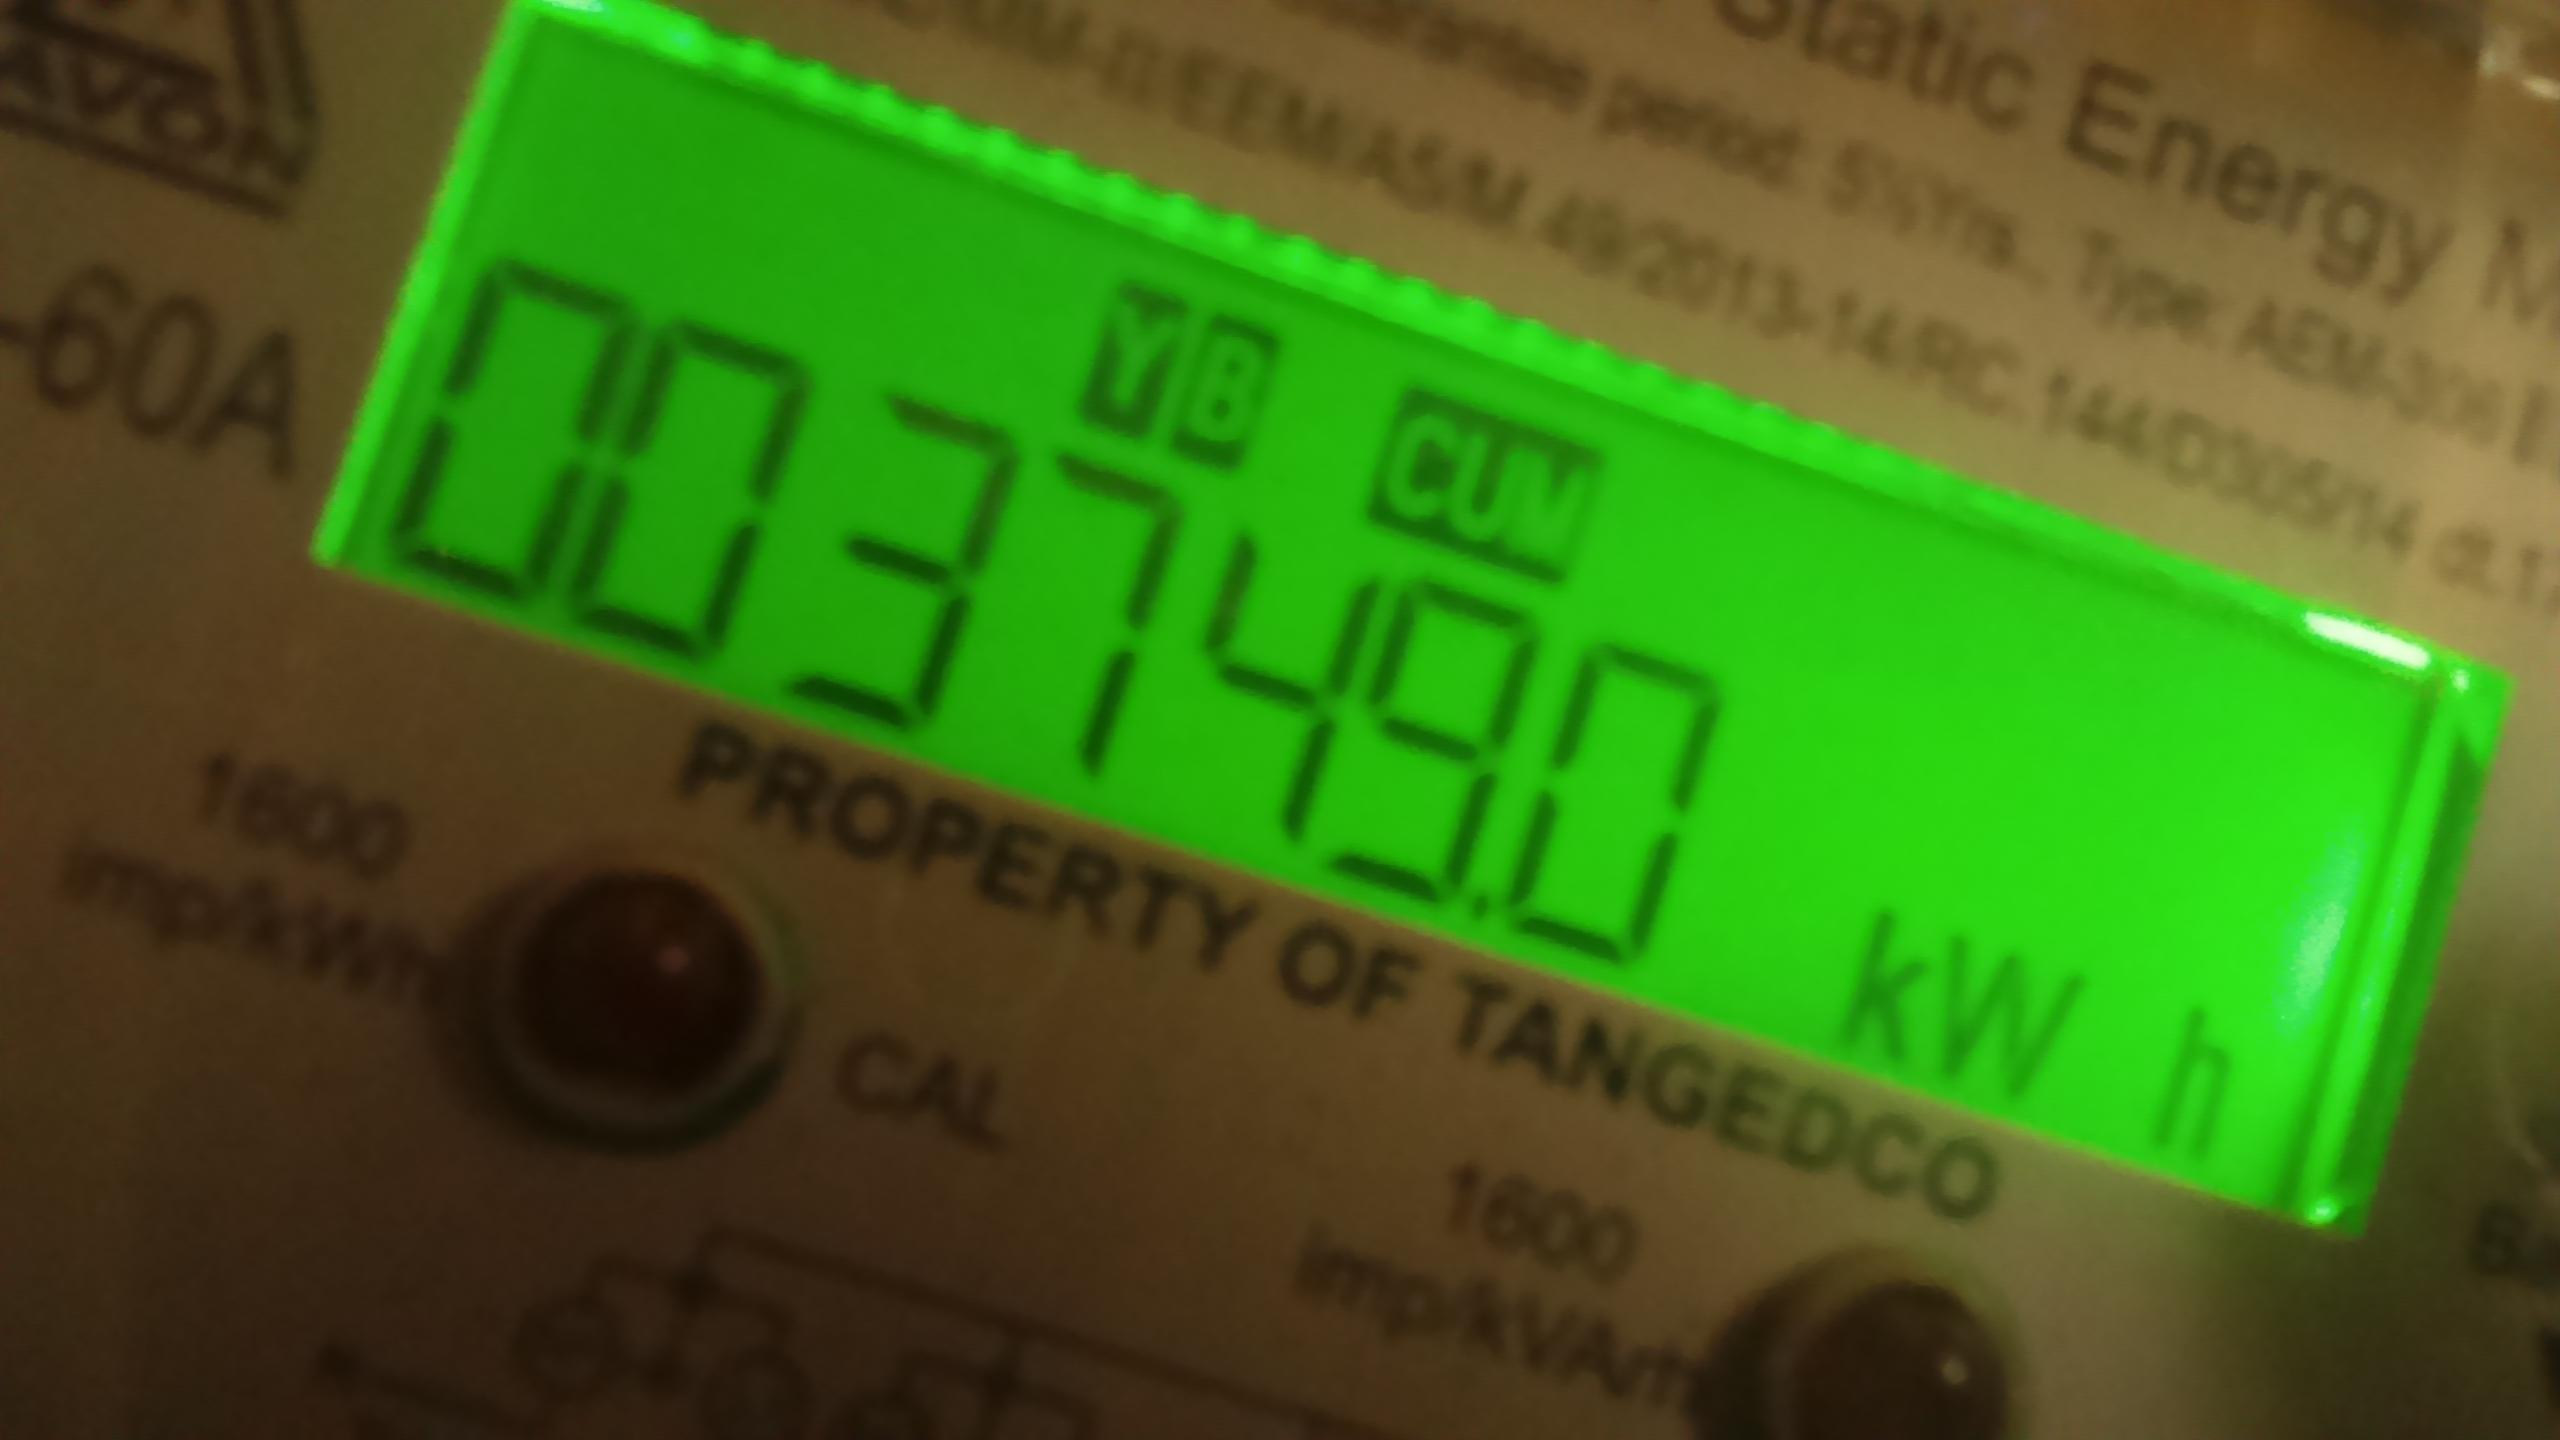.: (1839, 893, 2235, 1162)
0: (1447, 847, 1561, 939)
1: (575, 264, 842, 666), (392, 223, 628, 607), (1535, 603, 1751, 928)
4: (758, 359, 1016, 726)
5: (1171, 524, 1401, 826)
8: (985, 454, 1192, 772)
:: (1313, 563, 1582, 890)
